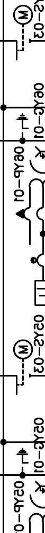115_1way_ds_w_motor: (13, 338, 34, 396), (13, 4, 34, 61)
115_gs: (16, 447, 29, 469), (16, 113, 29, 134)
